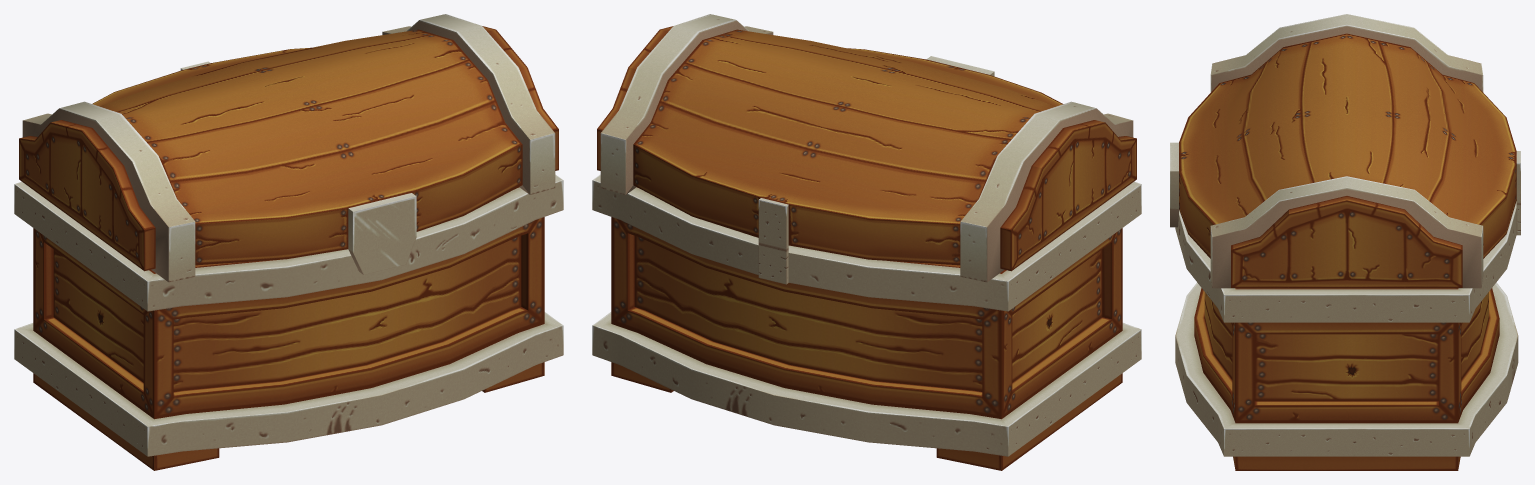
Rendered from PiratesChest.fbx.
3 views of the same model, side by side, from view 1: azimuth 30°, elevation 25°; view 2: azimuth 150°, elevation 25°; view 3: azimuth 270°, elevation 25° (orthographic). The views are drawn at different scales.
Visible parts, largest first — view 1: Mesh_ChestBase, Mesh_ChestLid; view 2: Mesh_ChestBase, Mesh_ChestLid; view 3: Mesh_ChestLid, Mesh_ChestBase.
Boxes of the visible parts, <box> form: Mesh_ChestBase: <box>14,174,563,470</box>; Mesh_ChestLid: <box>19,14,558,282</box>; Mesh_ChestBase: <box>592,174,1141,470</box>; Mesh_ChestLid: <box>597,14,1136,282</box>; Mesh_ChestLid: <box>1170,14,1520,288</box>; Mesh_ChestBase: <box>1175,201,1520,470</box>.
Size of the model in its own units: 298 by 210 by 236.
1 material, 1 textured.
